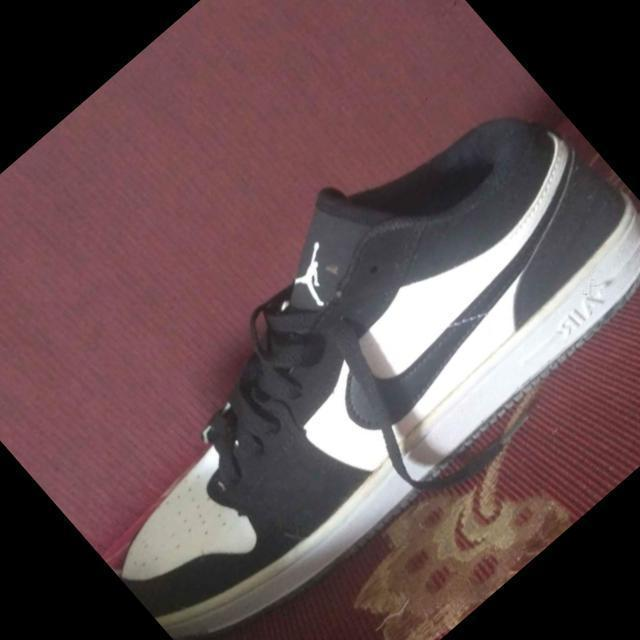nike fake jordan 1: (12, 34, 640, 640)
